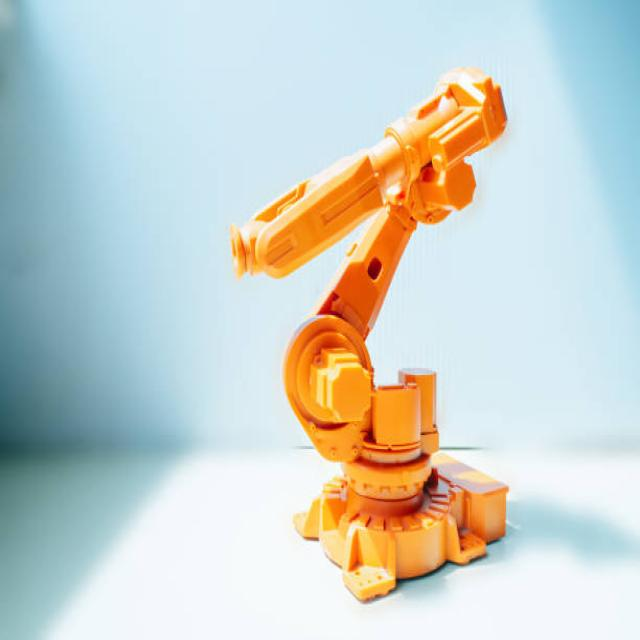Robotic-arm: (227, 59, 519, 604)
